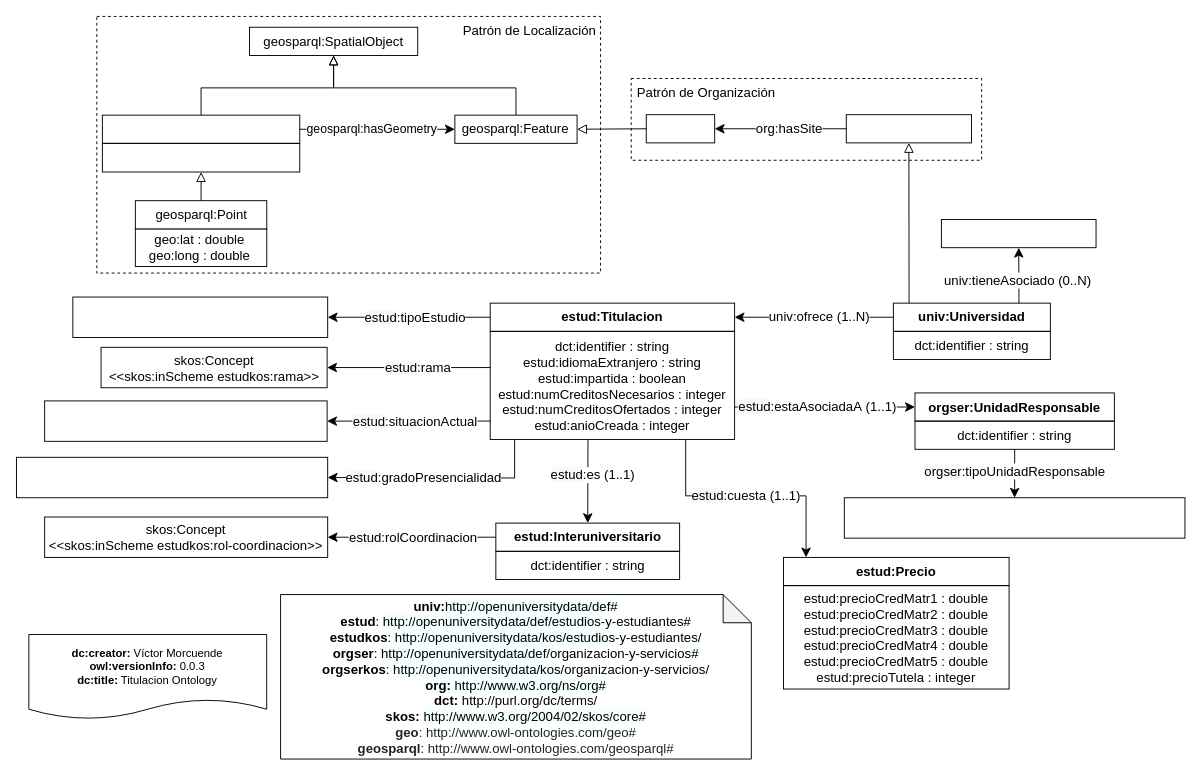
This 1202x776 diagram has some shape labels left out. The shapes that lost their labels are listed below. From the top down, each one's centre as x and y in pixels, then its label:
At point (200, 128): "geosparql:Geometry".
At point (680, 128): "org:Site".
At point (908, 128): "org:Organization".
At point (200, 157): "geosparql:asWKT : WKTLiteral".
At point (1018, 233): "univ :CursoAcademico".
At point (200, 316): "skos:Concept <<skos:inScheme estudkos:tipo-estudio>>".
At point (185, 420): "skos:Concept <<skos:inScheme estudkos:situacion-actual>>".
At point (172, 477): "skos:Concept <<skos:inScheme estudkos:grado-presencialidad>>".
At point (1014, 517): "skos:Concept <<skos:inScheme orgserkos:tipo-unidad-responsable>>".
